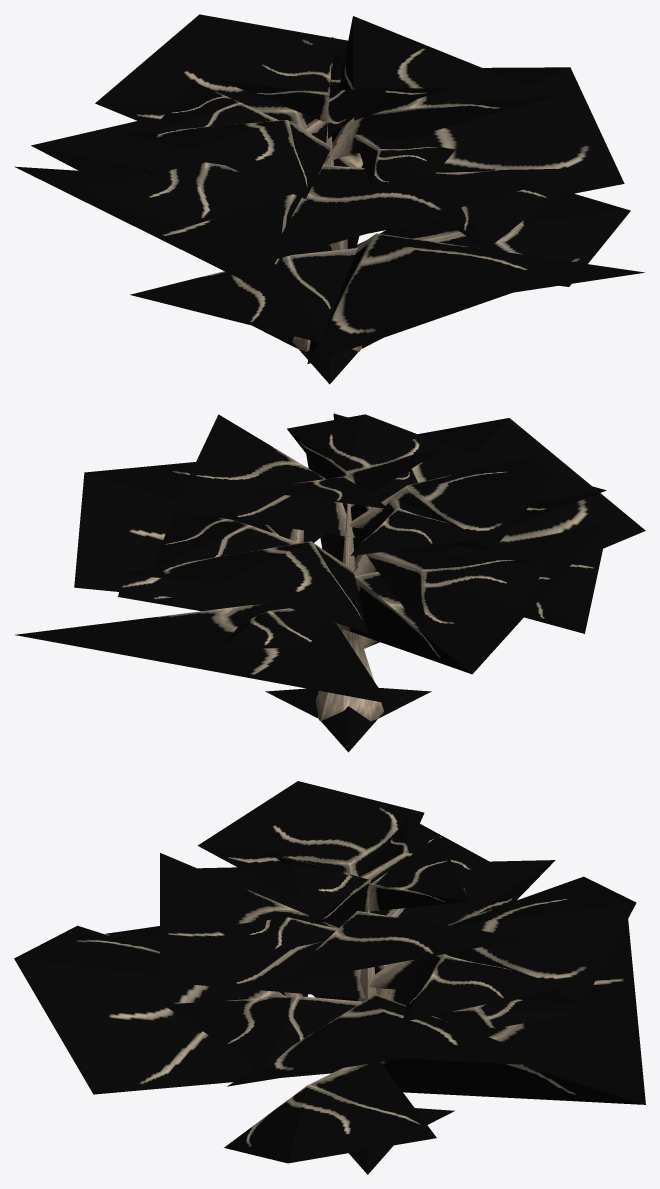
File: naflbu14.dae
3 views of the same model, one above another, from view 1: azimuth 30°, elevation 25°; view 2: azimuth 150°, elevation 25°; view 3: azimuth 270°, elevation 25° (orthographic). The views are drawn at different scales.
Visible parts, largest first — view 1: crown; view 2: crown; view 3: crown.
Part boxes in pixels (x1,y1,x2,y2): crown: (14, 14, 644, 384); crown: (15, 413, 645, 752); crown: (14, 781, 645, 1174).
Size of the model in its own units: 1.48 by 1.65 by 0.8043.
1 material, 1 textured.
